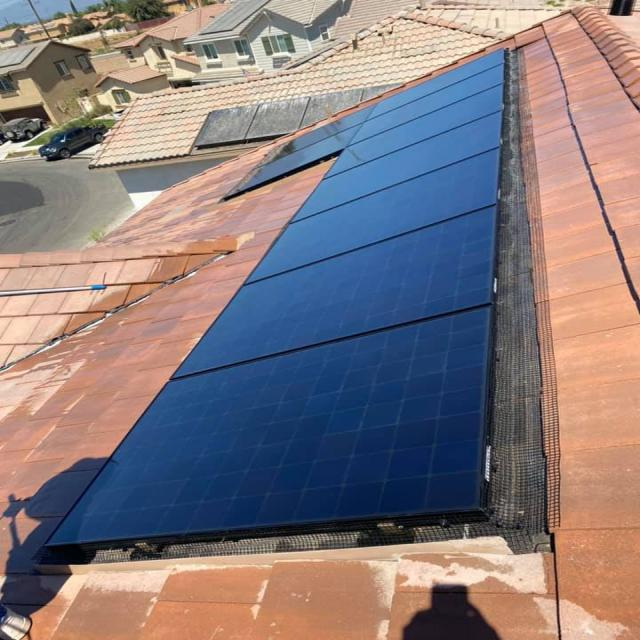clean-solar-panel: (86, 53, 502, 561)
